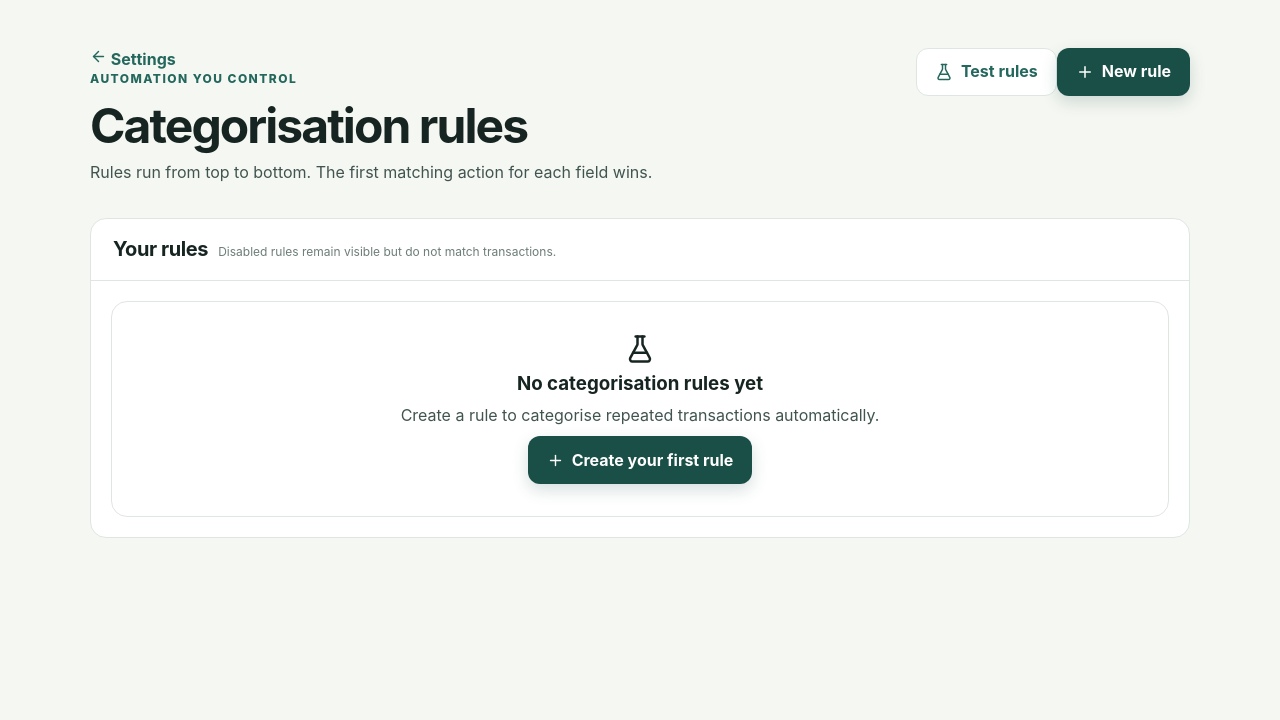
Test: RulesPage › shows winning rules and proposed fields from a dry run
This screenshot has width=1280, height=720.
Click the button "Test rules". click: (986, 72)
box: x1=916 y1=48 x2=1057 y2=96
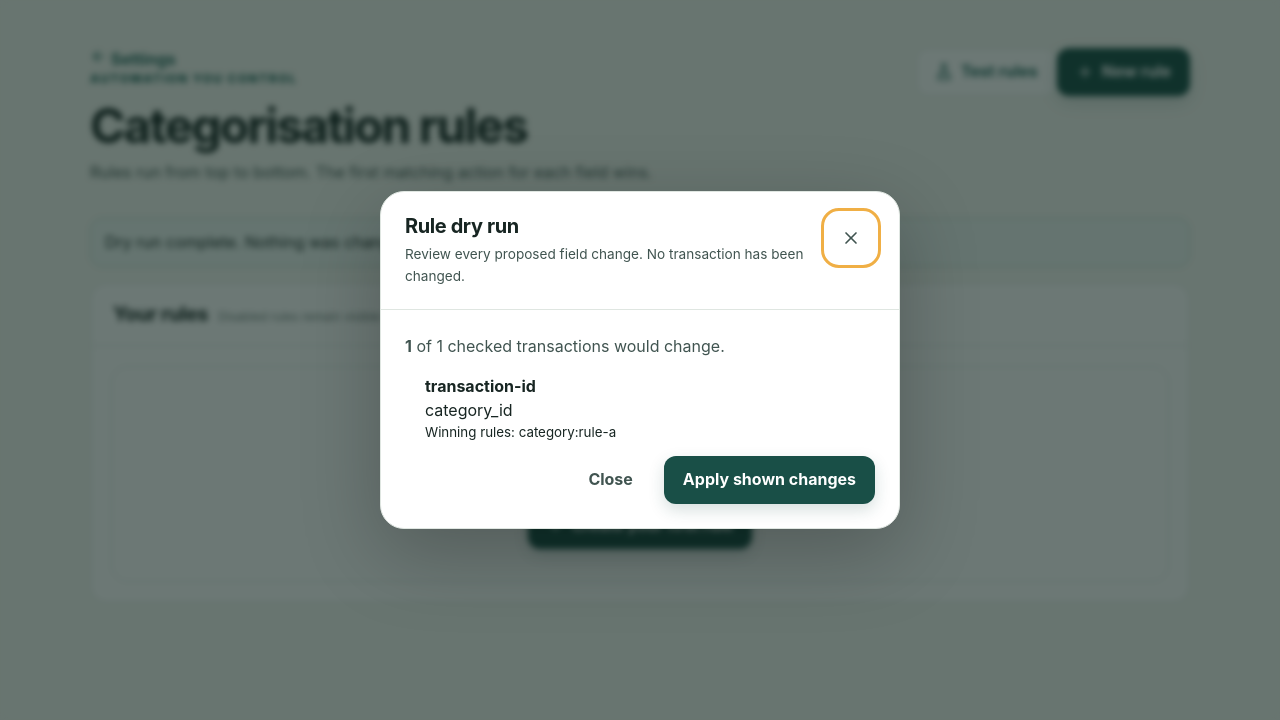
Check: the text "Winning rules: category:rule-a" is shown, box x1=425 y1=424 x2=616 y2=440
Check: the text "category_id" is shown, box x1=425 y1=400 x2=513 y2=420
